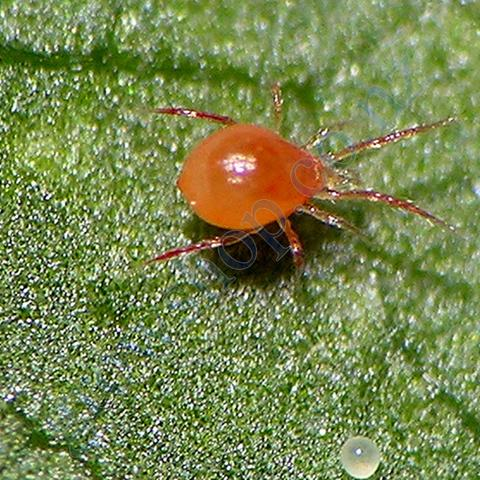Mites: (139, 89, 438, 277)
